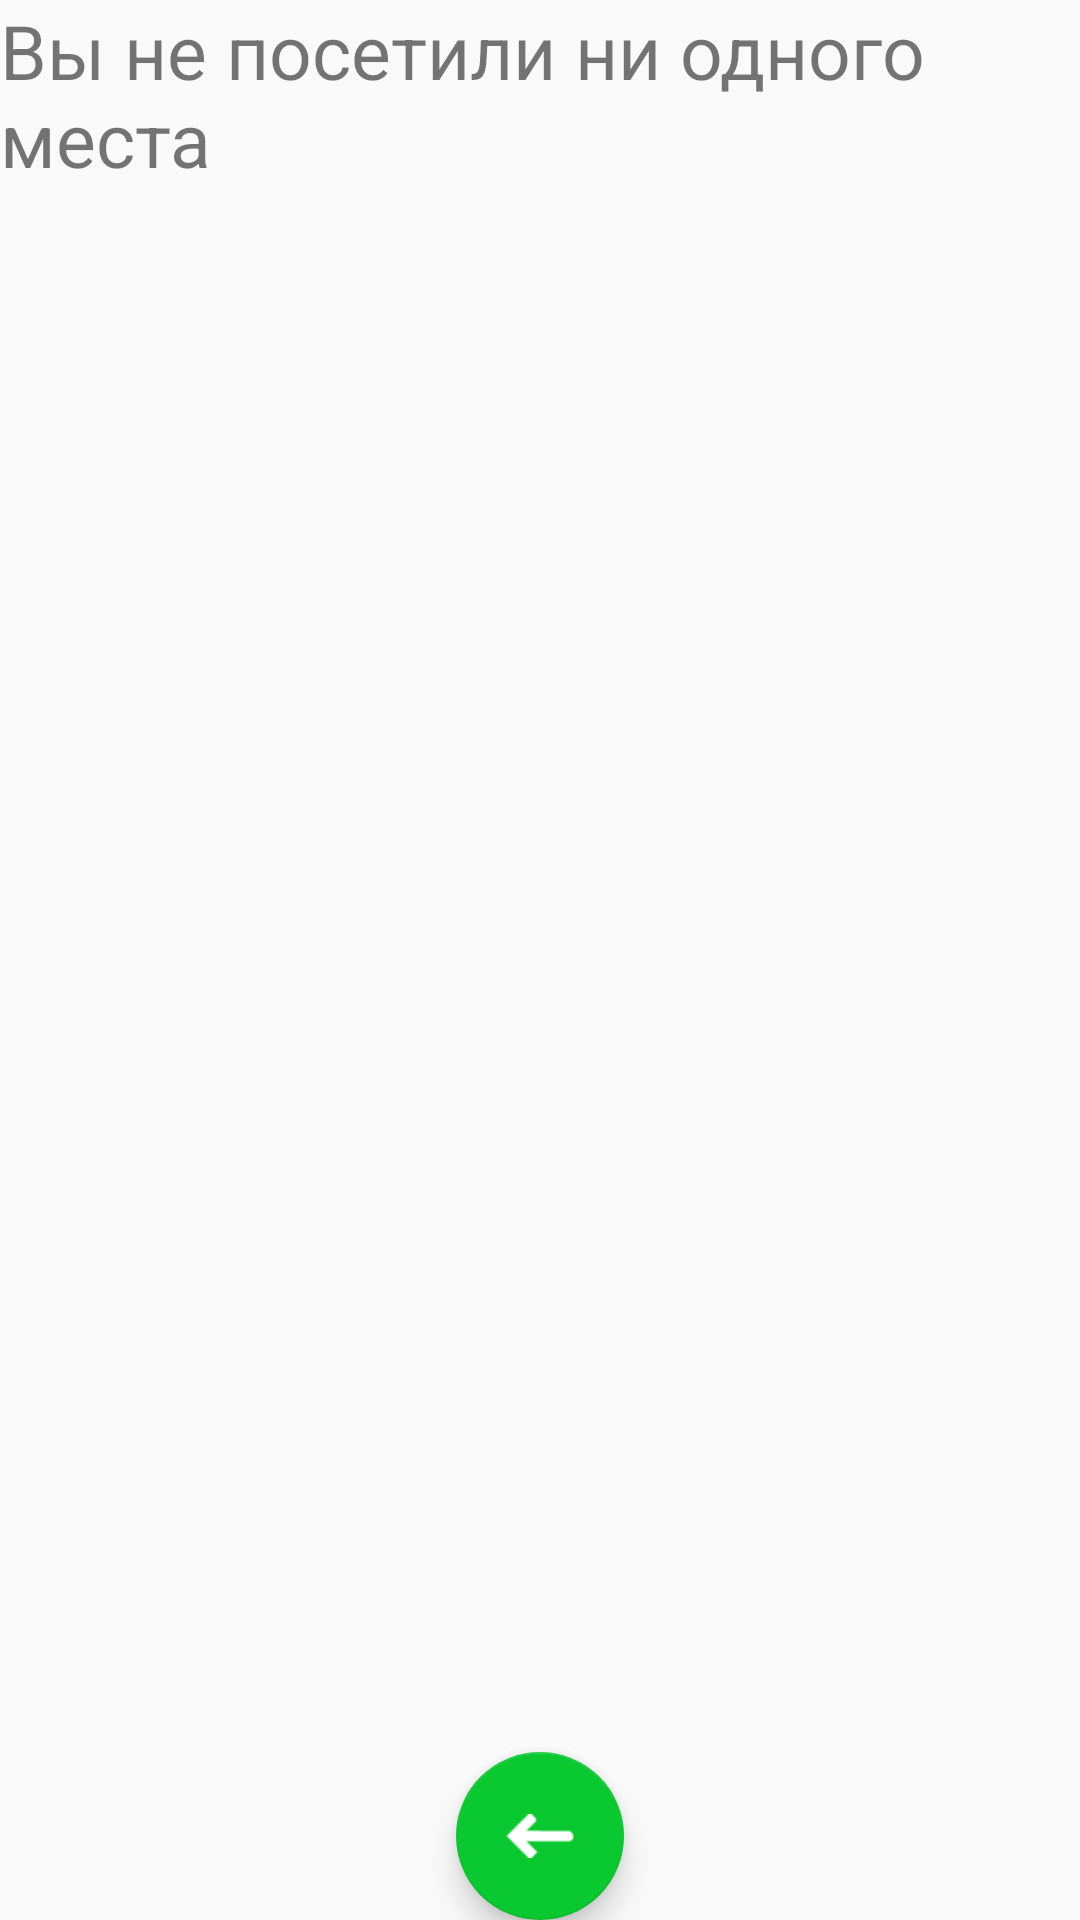

Icon bounding boxes for this 1080w x 1920h phone screenshot, format (x1, y1, x2, y2):
sback: (456, 1752, 624, 1920)
